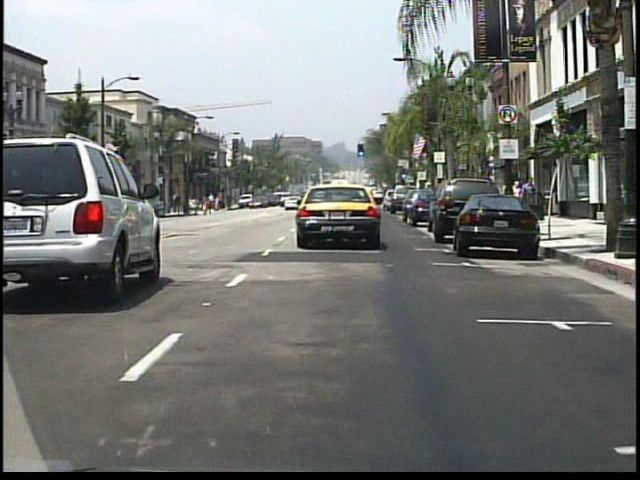person: (519, 173, 538, 222), (509, 179, 523, 216), (221, 195, 228, 211)
